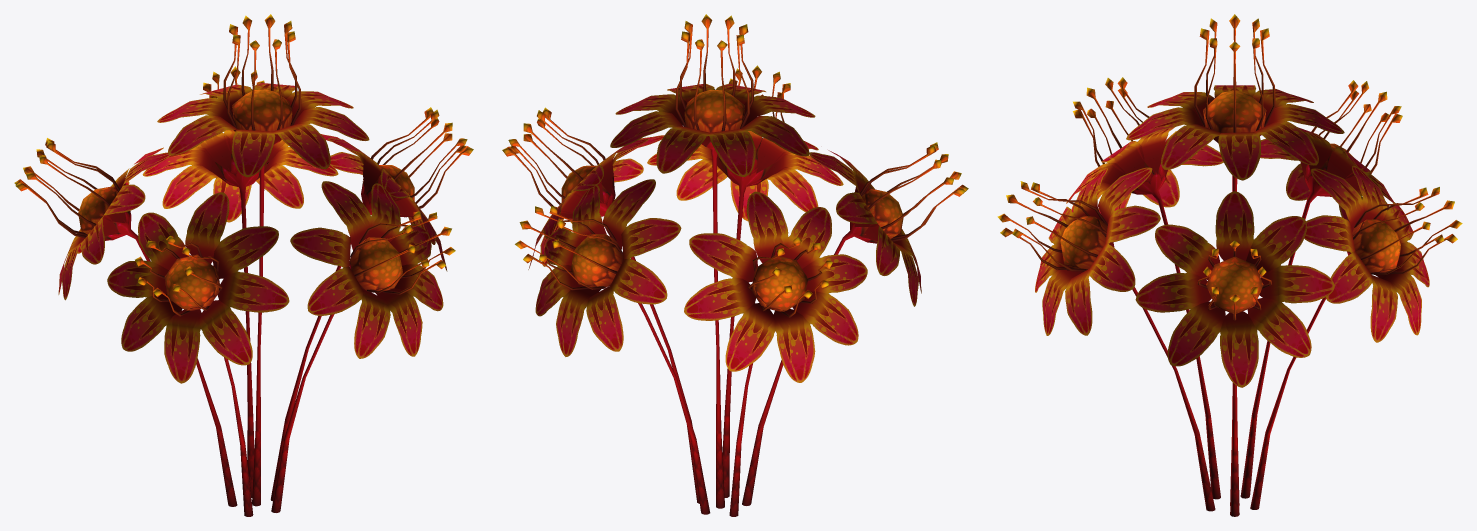
File: Red_Flower_01d.FBX
The picture shows the model from 3 angles, left to right: view 1: azimuth 30°, elevation 25°; view 2: azimuth 150°, elevation 25°; view 3: azimuth 270°, elevation 25°; orthographic projection.
Visible parts, largest first — view 1: Red_Flower_01d; view 2: Red_Flower_01d; view 3: Red_Flower_01d.
Part boxes in pixels (box(x1,y1,x2,y2)): Red_Flower_01d: box(14, 14, 473, 516); Red_Flower_01d: box(502, 14, 968, 516); Red_Flower_01d: box(997, 14, 1462, 516).
Size of the model in its own units: 110 by 128 by 112.
